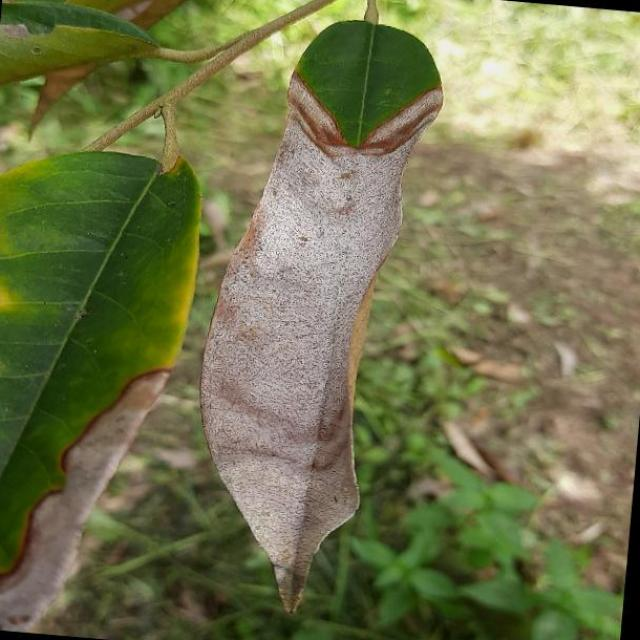Leaf Blight: (174, 6, 454, 632)
